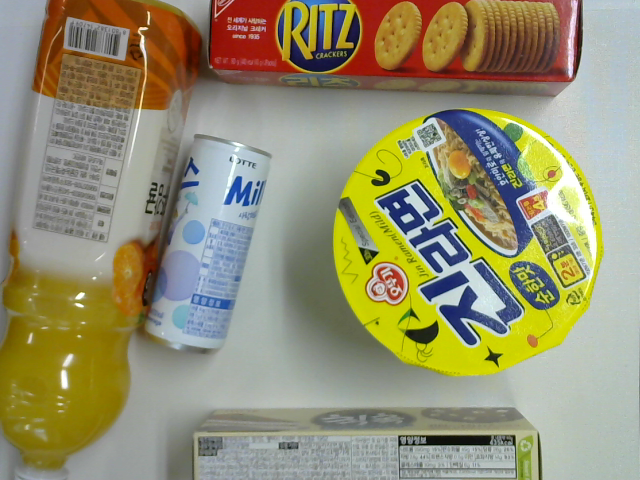Chicchok_Tiramisu: (182, 401, 545, 480)
Jeju_Tangerine_1.5L: (1, 2, 205, 479)
Jinlamyeon_Mild_Taste_Large_Cup: (326, 104, 605, 381)
Milkies_250ml: (135, 128, 276, 360)
Ritz_Cracker: (205, 1, 588, 99)
